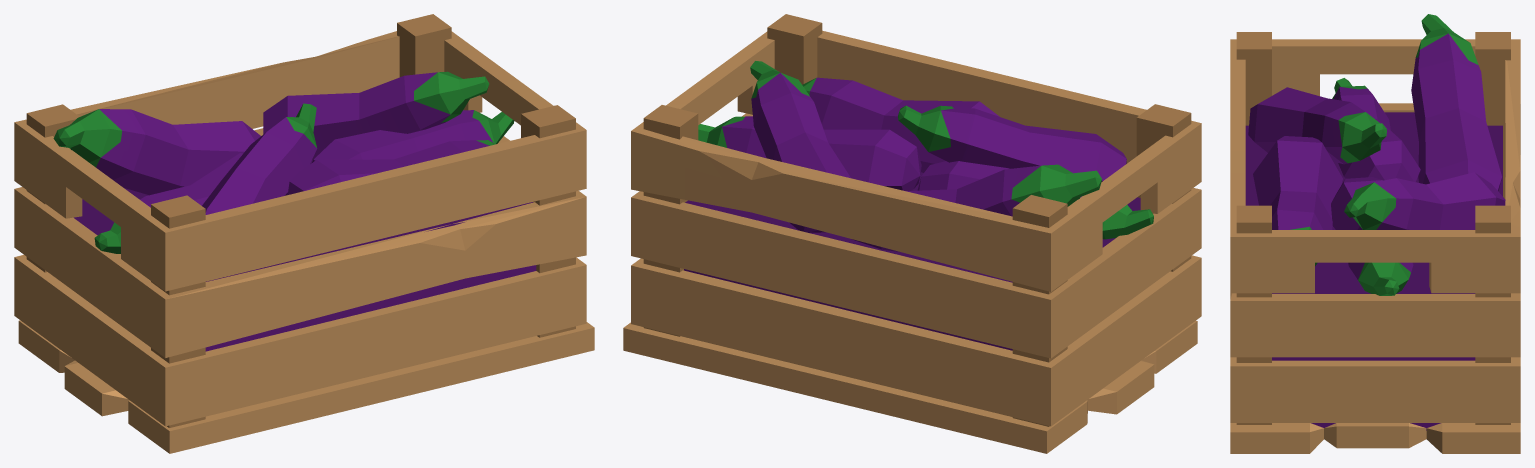
File: Eggplant Crate.fbx
The picture shows the model from 3 angles, left to right: view 1: azimuth 30°, elevation 25°; view 2: azimuth 150°, elevation 25°; view 3: azimuth 270°, elevation 25°; orthographic projection. The views are drawn at different scales.
Visible parts, largest first — view 1: Eggplant_Crate; view 2: Eggplant_Crate; view 3: Eggplant_Crate.
Boxes of the visible parts, box(x1,y1,x2,y2) form: Eggplant_Crate: box(14, 14, 594, 453); Eggplant_Crate: box(623, 14, 1201, 453); Eggplant_Crate: box(1230, 14, 1520, 453).
Bounding box in the file's own units: 76.04 × 41.52 × 45.26.
